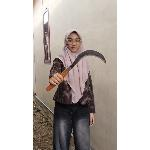Celurit: (44, 46, 110, 92)
